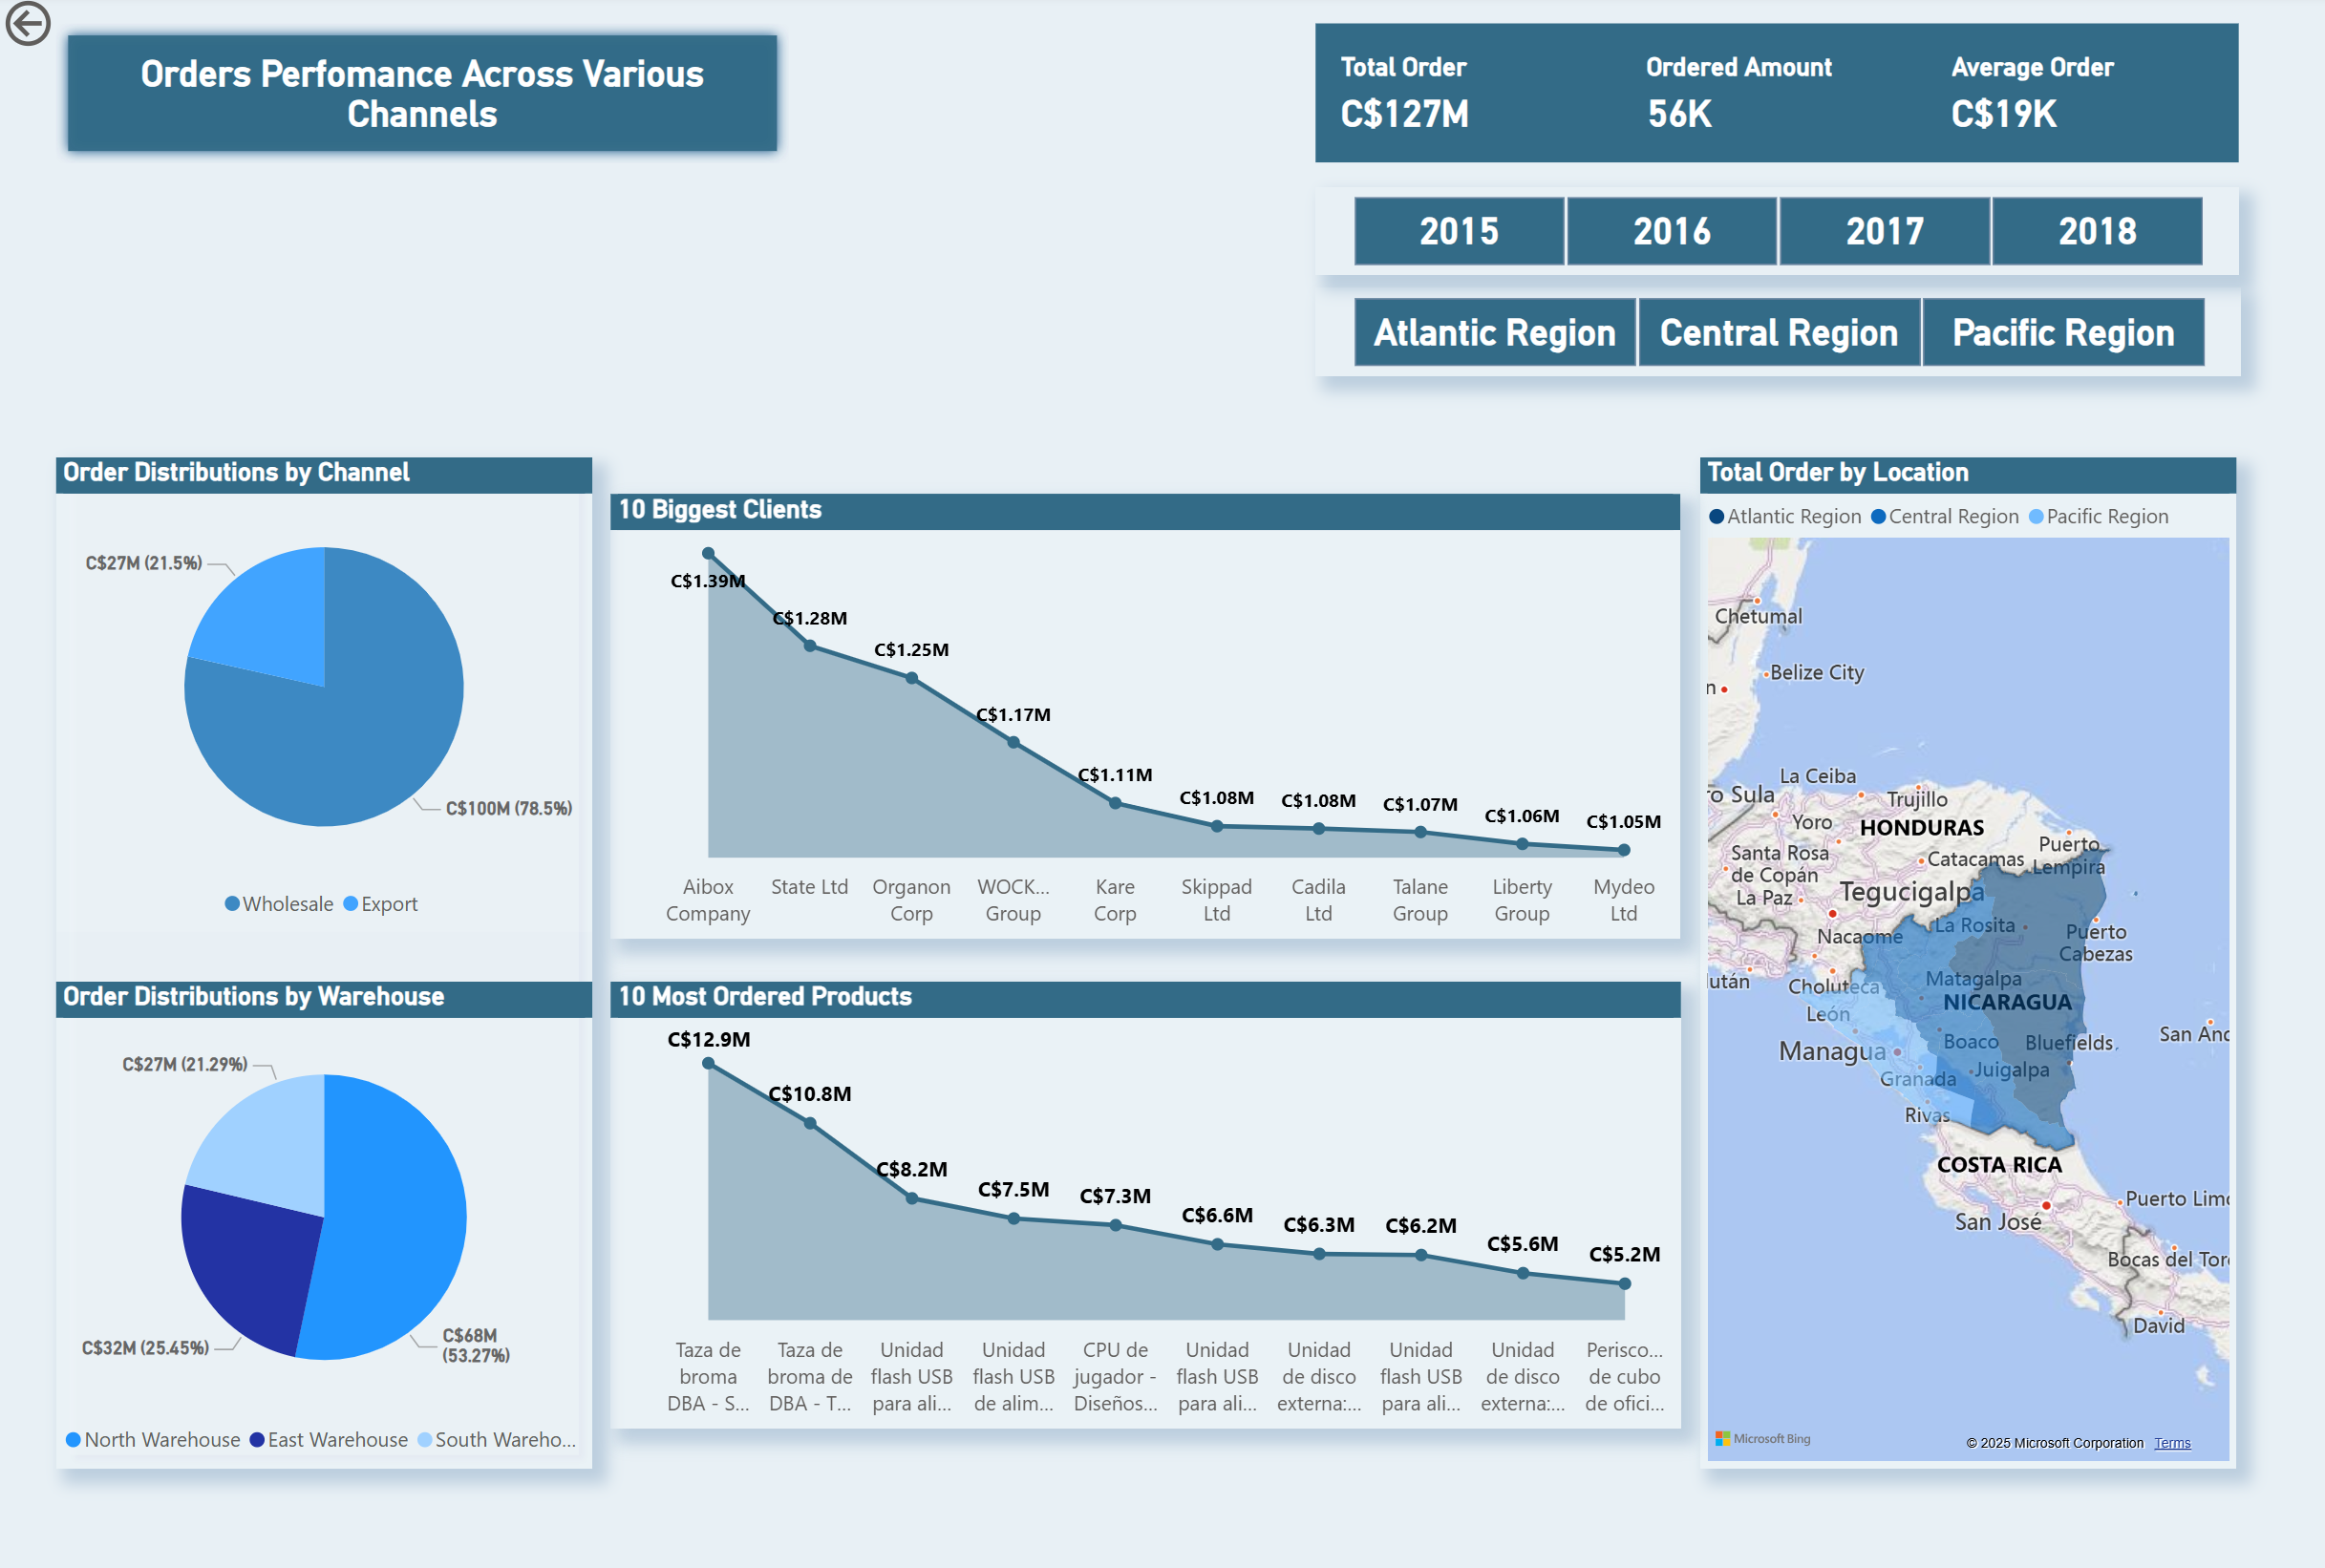

This screenshot's page, from the dashboard's own definition file:
{"tool":"powerbi","page":{"name":"Report","canvas":[1550,1050],"ordinal":0},"visuals":[{"type":"actionButton","box":[1177.3,58.6,132.9,54.3],"z":0},{"type":"shape","box":[38.1,308.8,356.5,672.2],"z":1000},{"type":"shape","box":[876.3,20.4,613.7,92.5],"z":2000},{"type":"filledMap","title":"Total Order by Location","fields":{"Series":["Regiones.Territorio"],"Category":["Regiones.Ubicación_Completa"]},"box":[1132.2,308.8,356.5,672.2],"z":3000},{"type":"actionButton","box":[0,0,100,40],"z":4000},{"type":"pieChart","title":"Order Distributions by Channel","fields":{"Category":["Ventas.Canal"],"Y":["Ventas.Total_orden"]},"box":[38.1,308.8,356.5,315.7],"z":5000},{"type":"areaChart","title":"10 Biggest Clients","fields":{"Category":["Clientes.Clientes_Nombres"],"Y":["Ventas.Total_orden","select"]},"box":[406.9,333.3,711,296],"z":6000},{"type":"actionButton","box":[38.6,20,487.2,92.9],"z":7000},{"type":"slicer","fields":{"Values":["Ventas.Year"]},"box":[876.3,127.9,613.7,58.5],"z":8000},{"type":"slicer","fields":{"Values":["Regiones.Territorio"]},"box":[876.3,196,615.1,58.5],"z":9000},{"type":"cardVisual","fields":{"Data":["Ventas.Total_orden","Ventas.Cantidad_Orden","Avg(Ventas.Total_orden)1"]},"box":[876.3,20.4,613.7,92.5],"z":10000},{"type":"areaChart","title":"10 Most Ordered Products ","fields":{"Category":["Productos.Nombre_Producto"],"Y":["Ventas.Total_orden"]},"box":[407.2,657.3,711.5,297.2],"z":11000},{"type":"pieChart","title":"Order Distributions by Warehouse ","fields":{"Y":["Ventas.Total_orden"],"Category":["Código_Bodega.Bodega"]},"box":[38.1,657.1,356.5,323.9],"z":12000}]}

Visuals, with their boxes in screenshot pixels (x1, y1, x2, y2), scaled from the page's 1550x1050 canvas onto the 2325x1568 screenshot:
actionButton: l=1766, t=88, r=1965, b=169
shape: l=57, t=461, r=592, b=1465
shape: l=1314, t=31, r=2235, b=169
"Total Order by Location" filledMap: l=1698, t=461, r=2233, b=1465
actionButton: l=0, t=0, r=150, b=60
"Order Distributions by Channel" pieChart: l=57, t=461, r=592, b=933
"10 Biggest Clients" areaChart: l=610, t=498, r=1676, b=940
actionButton: l=58, t=30, r=789, b=169
slicer - Ventas.Year: l=1314, t=191, r=2235, b=278
slicer - Regiones.Territorio: l=1314, t=293, r=2237, b=380
cardVisual - Ventas.Total_orden x Ventas.Cantidad_Orden: l=1314, t=31, r=2235, b=169
"10 Most Ordered Products " areaChart: l=610, t=982, r=1678, b=1426
"Order Distributions by Warehouse " pieChart: l=57, t=982, r=592, b=1465
